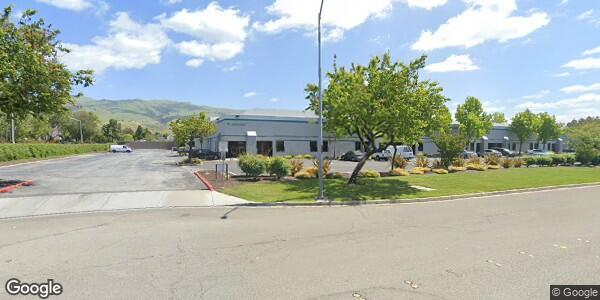Steel_Pole: (312, 1, 331, 205)
